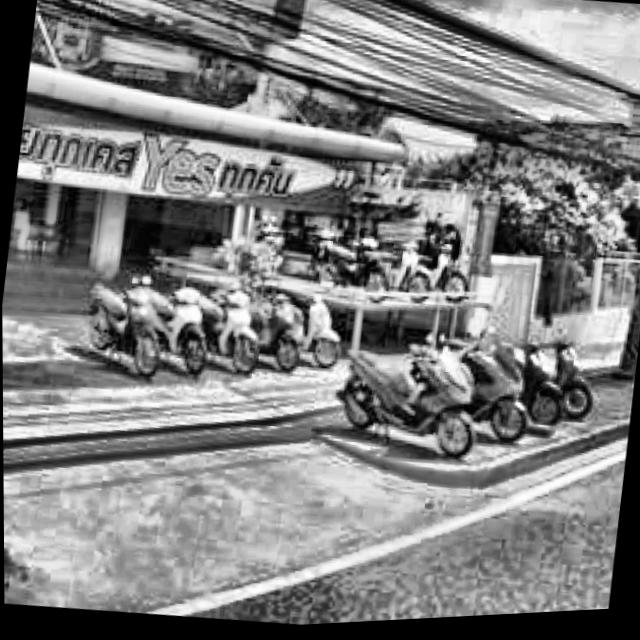motorcycle: (325, 336, 483, 472), (75, 265, 169, 386), (454, 339, 541, 449), (157, 279, 224, 386), (203, 283, 268, 382), (533, 336, 600, 431), (285, 282, 349, 381), (511, 336, 569, 433), (243, 285, 304, 376)
